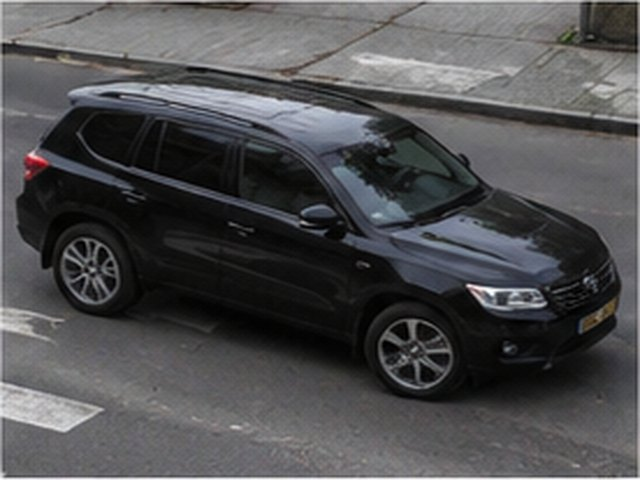whitevan: (17, 70, 619, 396)
